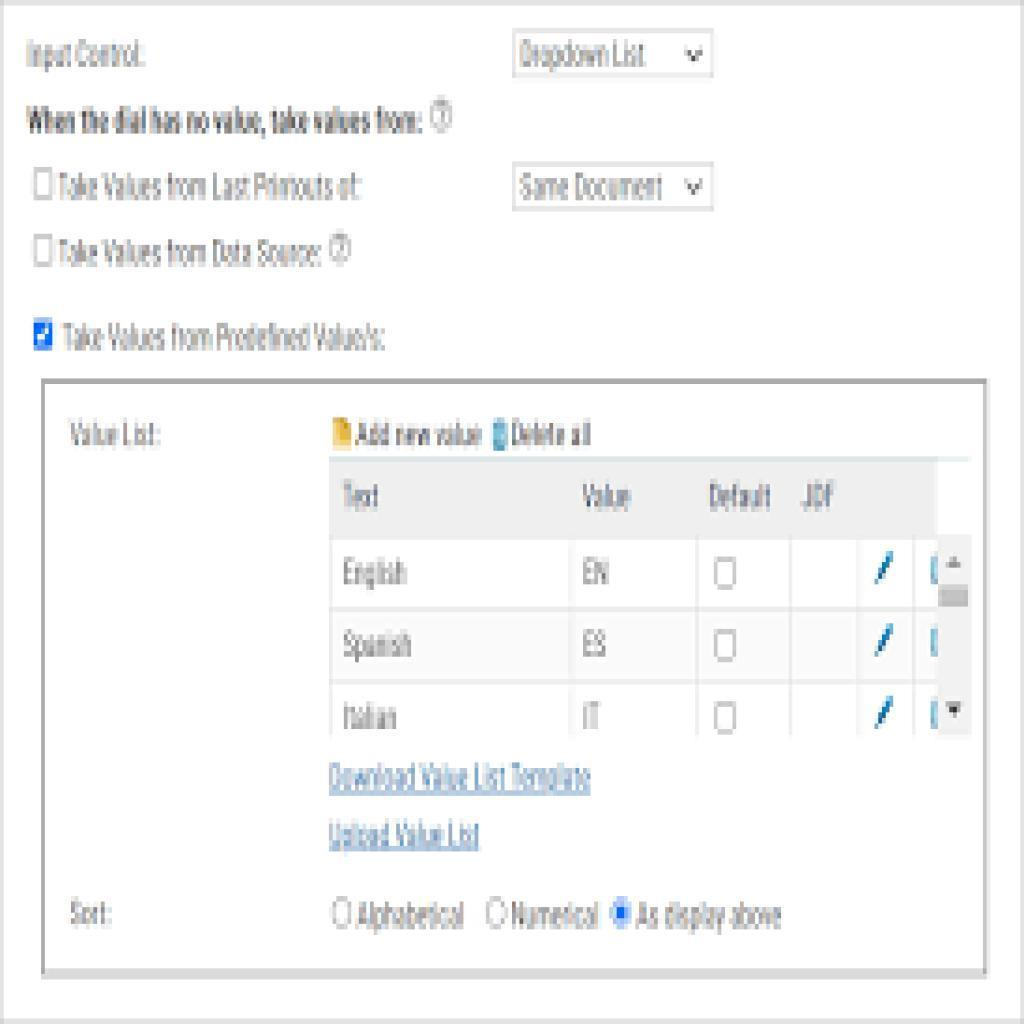checkbox: (32, 318, 56, 353), (714, 703, 739, 735), (32, 234, 56, 267), (716, 556, 737, 593), (714, 630, 735, 666), (35, 168, 56, 200)
dropdown: (513, 29, 717, 79), (514, 165, 717, 211)
icon: (325, 414, 359, 452), (871, 615, 898, 662), (872, 547, 899, 587), (870, 692, 897, 731), (490, 420, 513, 453)
radio: (325, 892, 357, 936), (608, 892, 638, 935), (483, 893, 510, 936)
table: (332, 455, 979, 743)
